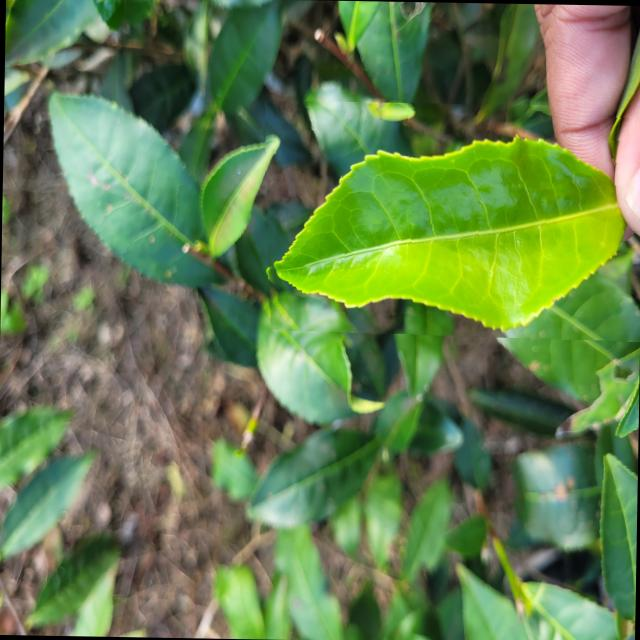Category B 2-4 days: (260, 100, 640, 342)
